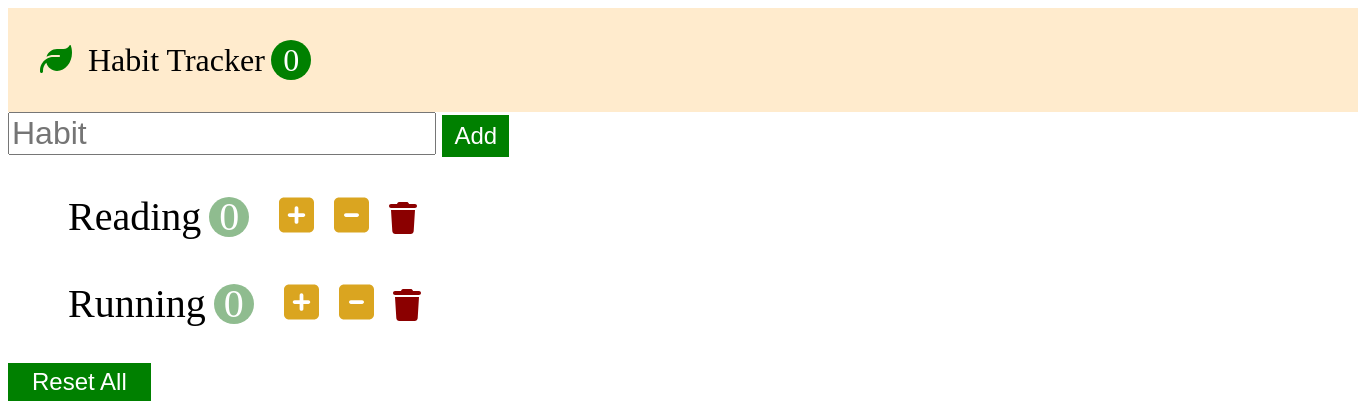
Scenario: Habit Tracker › header 에 habit 활성화에 따른 개수 체크
The width and height of the screenshot is (1366, 418).
Click the button titled "increase" in the row of "Reading".
click(297, 217)  # box [273,193,320,240]
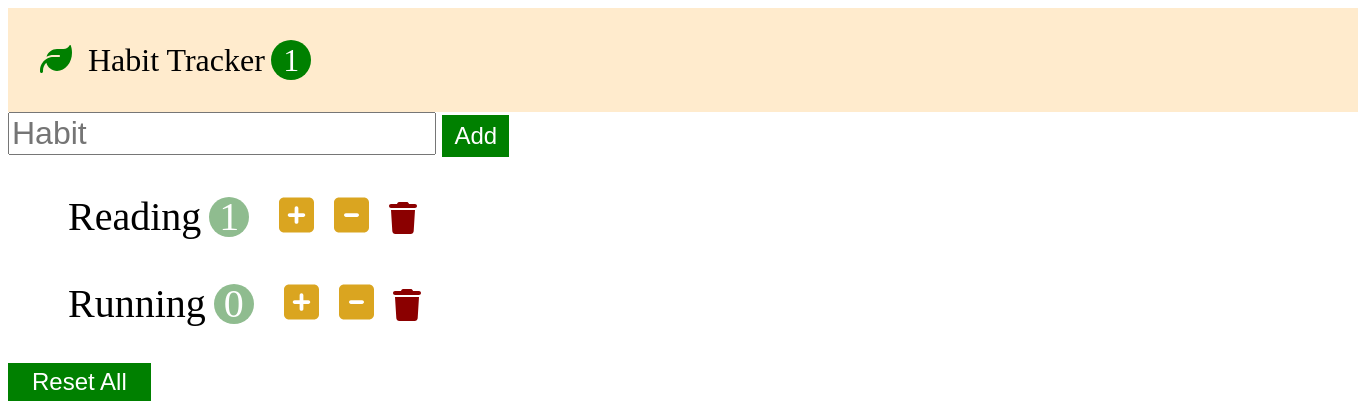
Click the button titled "increase" in the row of "Running".
click(302, 304)  # box [278,280,325,327]
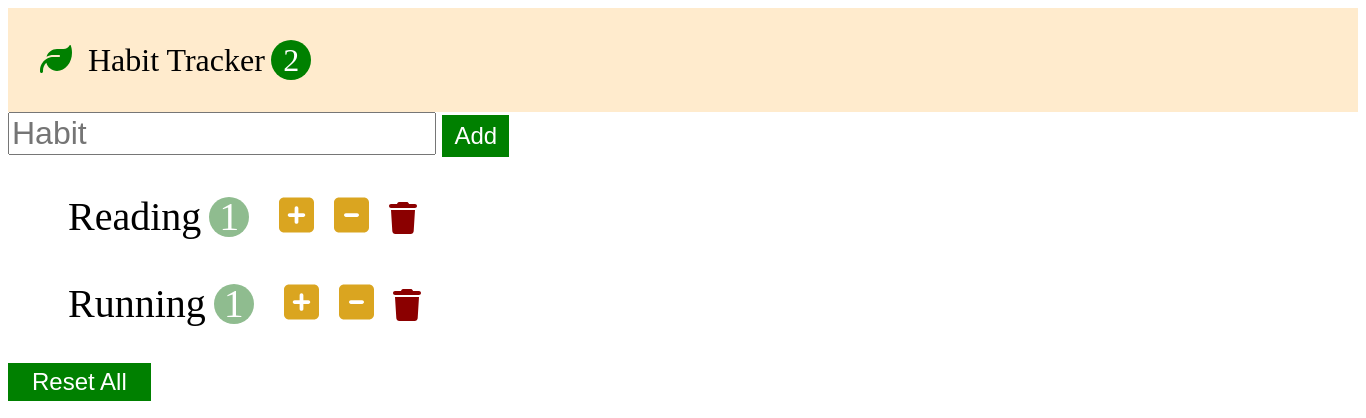
expect the text with test id "total-count" reads "2": met, box [271,40,311,80]
